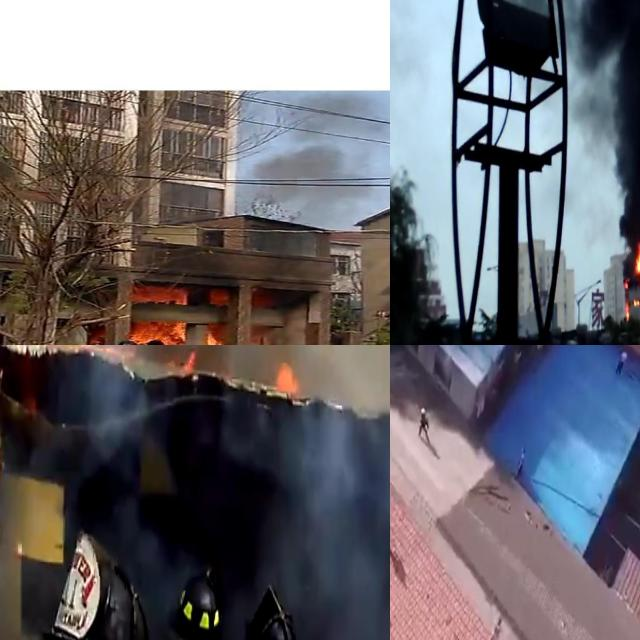fire: (125, 283, 240, 345), (622, 239, 640, 314), (274, 362, 300, 398)
smoke: (293, 433, 390, 640), (248, 145, 362, 212), (248, 90, 388, 135)
